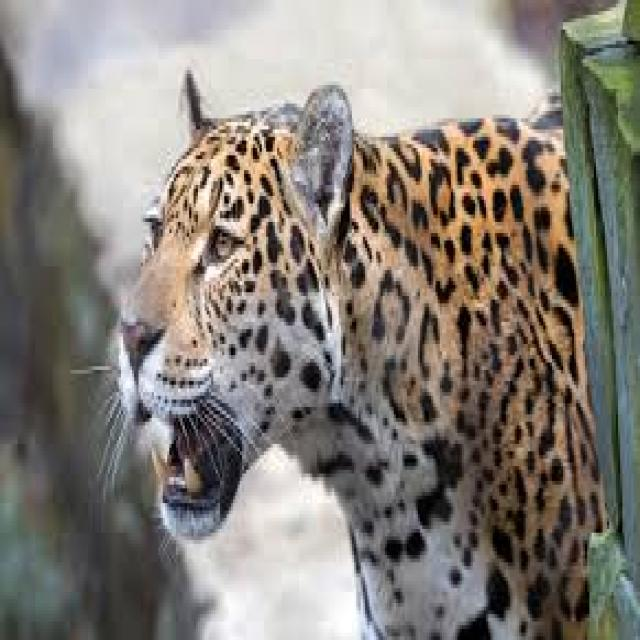Jaguar: (110, 66, 616, 640)
